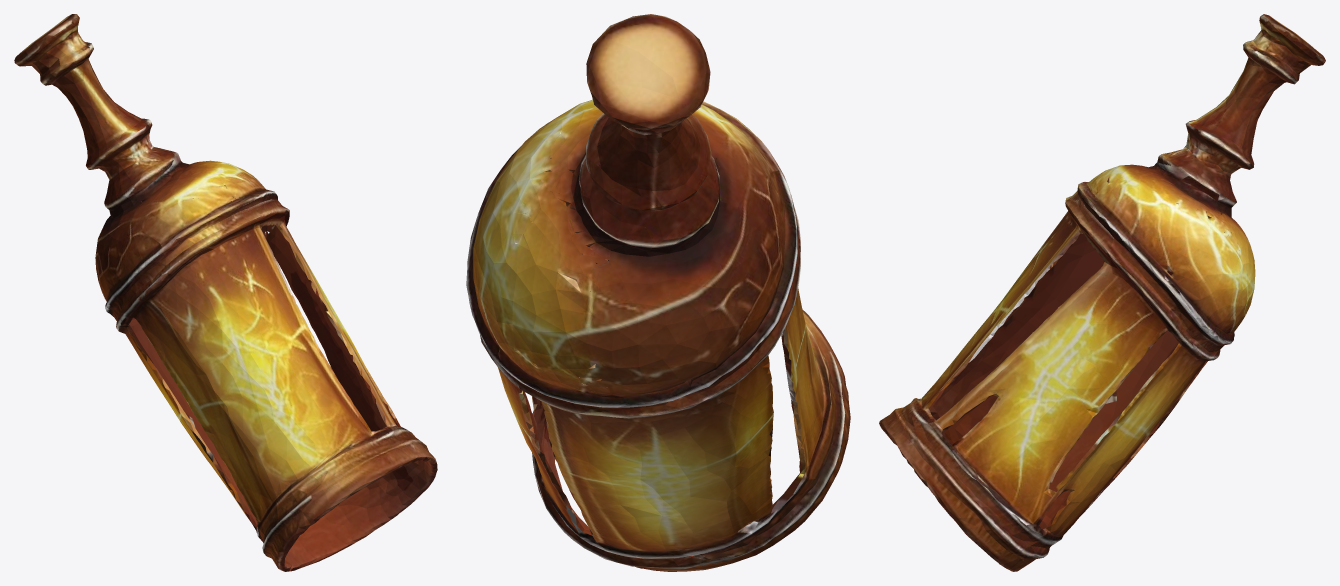
The model's file is cure_all.glb.
3 views of the same model, side by side, from view 1: azimuth 30°, elevation 25°; view 2: azimuth 150°, elevation 25°; view 3: azimuth 270°, elevation 25° (orthographic). The views are drawn at different scales.
Parts seen in each view (by area): view 1: tmphpp4dq0y.ply; view 2: tmphpp4dq0y.ply; view 3: tmphpp4dq0y.ply.
Boxes of the visible parts, x1,y1,x2,y2 form: tmphpp4dq0y.ply: [14, 14, 437, 571]; tmphpp4dq0y.ply: [466, 14, 850, 571]; tmphpp4dq0y.ply: [879, 14, 1325, 571].
Bounding box in the file's own units: 1.12 × 2 × 1.68.
Materials: 1 (1 with a texture image).
